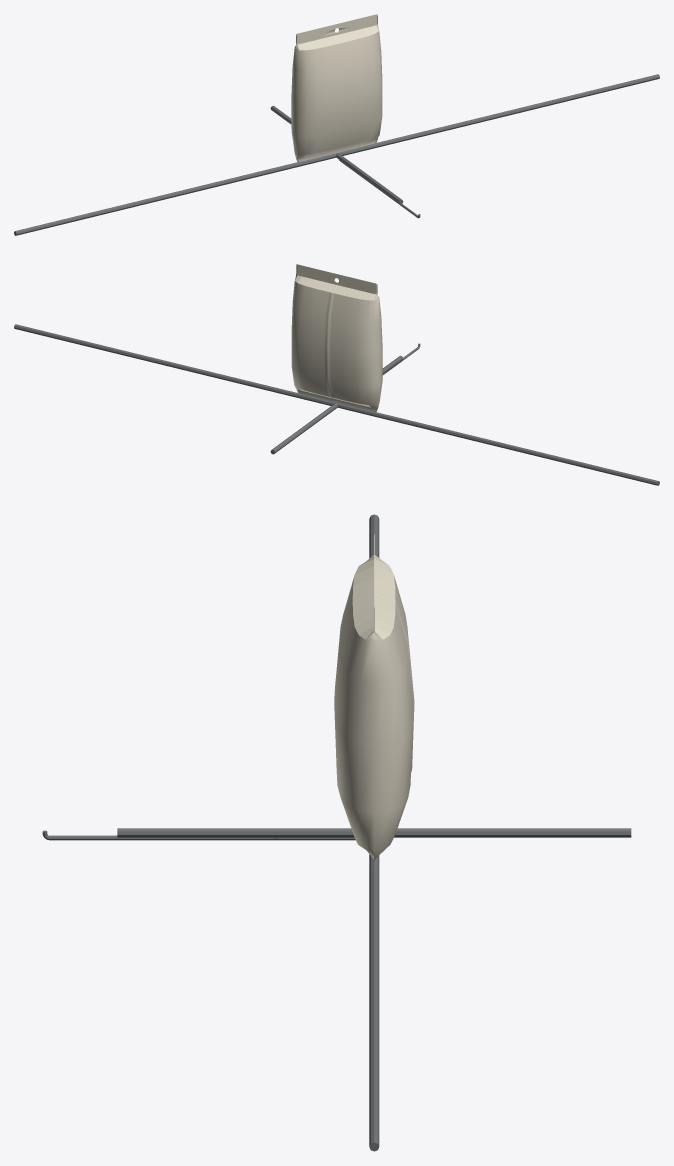
The model's file is candy-pouch.glb.
The picture shows the model from 3 angles, top to bottom: view 1: azimuth 30°, elevation 25°; view 2: azimuth 150°, elevation 25°; view 3: azimuth 270°, elevation 25°; orthographic projection. The views are drawn at different scales.
Parts seen in each view (by area): view 1: PouchFull_continuous_laminate_and_seals, GondolaCrossbar_continuous_tube, RackCrossbar_continuous_tube, RackSideRail_continuous_tube; view 2: PouchFull_continuous_laminate_and_seals, GondolaCrossbar_continuous_tube, RackCrossbar_continuous_tube, RackSideRail_continuous_tube; view 3: PouchFull_continuous_laminate_and_seals, RackSideRail_continuous_tube, GondolaCrossbar_continuous_tube, RackCrownRail_continuous_tube, PegLong_bent_wire.
Boxes of the visible parts, x1,y1,x2,y2 form: PouchFull_continuous_laminate_and_seals: (291, 14, 382, 162); GondolaCrossbar_continuous_tube: (14, 74, 659, 235); RackCrossbar_continuous_tube: (89, 93, 586, 216); RackSideRail_continuous_tube: (270, 106, 403, 203); PouchFull_continuous_laminate_and_seals: (291, 264, 382, 412); GondolaCrossbar_continuous_tube: (14, 324, 659, 485); RackCrossbar_continuous_tube: (87, 342, 585, 467); RackSideRail_continuous_tube: (270, 356, 403, 454); PouchFull_continuous_laminate_and_seals: (334, 534, 414, 864); RackSideRail_continuous_tube: (117, 828, 631, 837); GondolaCrossbar_continuous_tube: (369, 514, 379, 1151); RackCrownRail_continuous_tube: (276, 828, 472, 837); PegLong_bent_wire: (42, 830, 355, 840).
Size of the model in its own units: 3.7 by 0.7399 by 1.47.
